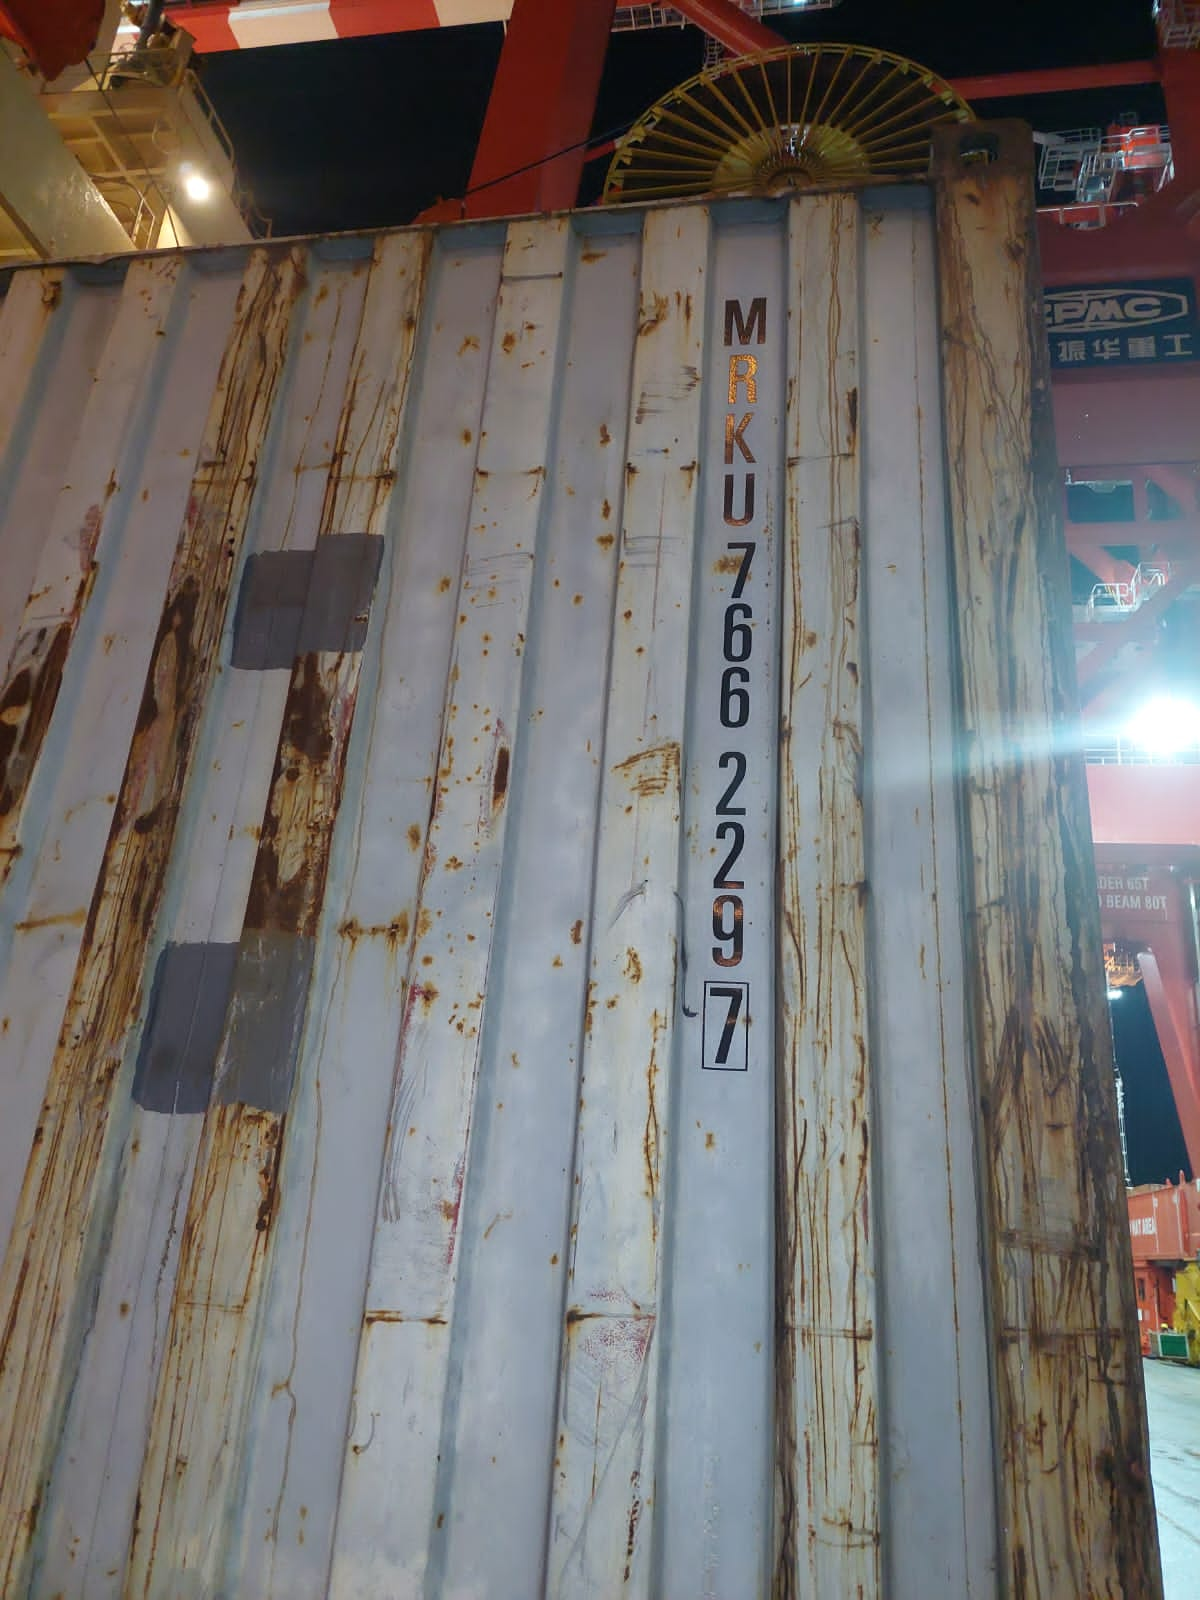front_side: (1, 118, 1161, 1585)
